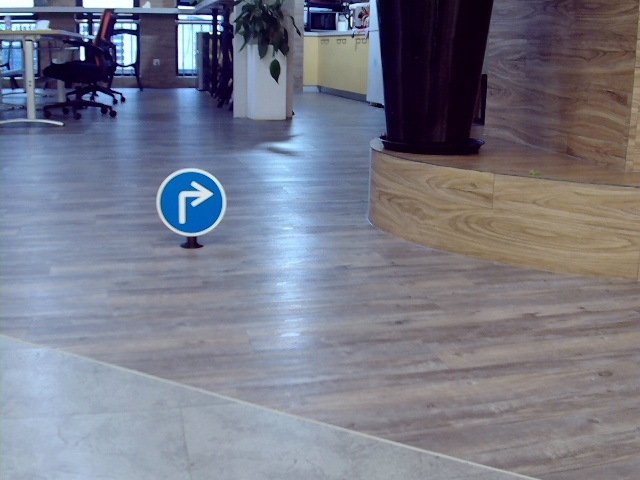turn_right: (174, 176, 211, 223)
